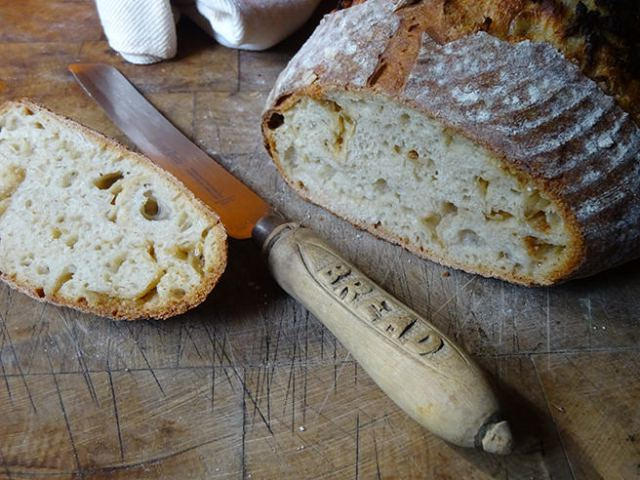slice of bread: (272, 75, 601, 286), (3, 112, 226, 312)
